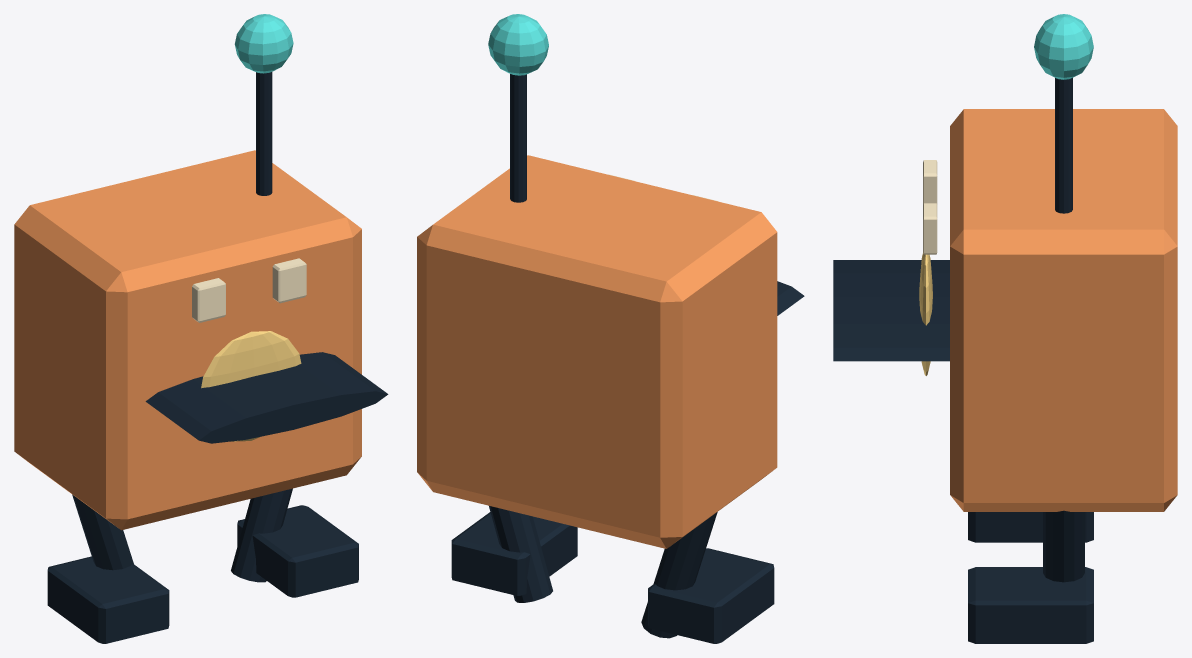
File: call_bit.glb
3 renders of one model, left to right at view 1: azimuth 30°, elevation 25°; view 2: azimuth 150°, elevation 25°; view 3: azimuth 270°, elevation 25°, orthographic. The views are drawn at different scales.
Visible parts, largest first — view 1: antenna.001; view 2: antenna.001; view 3: antenna.001.
Part boxes in pixels (x1=…): antenna.001: x1=14, y1=14, x2=388, y2=643; antenna.001: x1=417, y1=14, x2=804, y2=643; antenna.001: x1=833, y1=14, x2=1177, y2=643.
Size of the model in its own units: 0.55 by 1.13 by 0.575.
